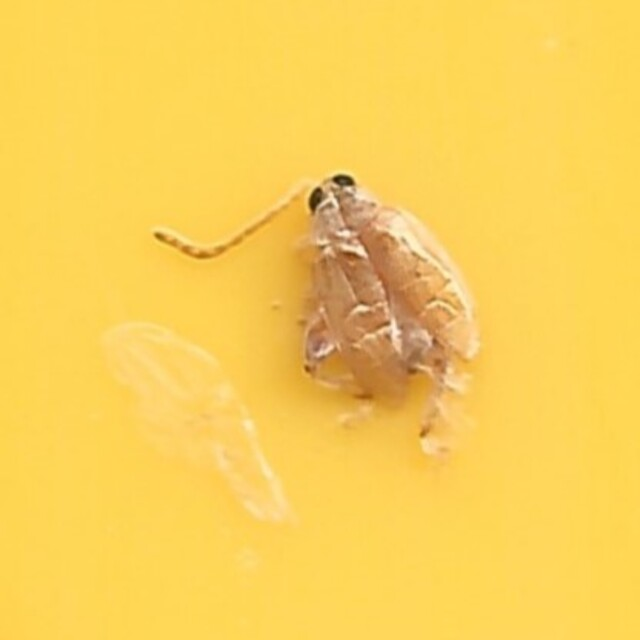Coleoptera: (154, 170, 486, 470)
